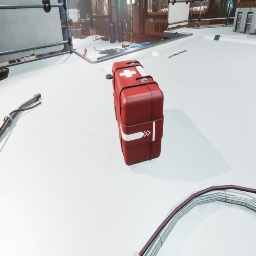0: (161, 39, 163, 41)
EmergencyPhone ,: (89, 15, 91, 18)
FireExtinguisher ]: (122, 43, 131, 48), (82, 48, 87, 56), (80, 35, 86, 39)
FirstAidBox ,: (112, 59, 164, 166)
NitrogenTank ,: (116, 50, 120, 53), (61, 21, 61, 22)
SafetySwitchPanel ,: (86, 13, 90, 19)
